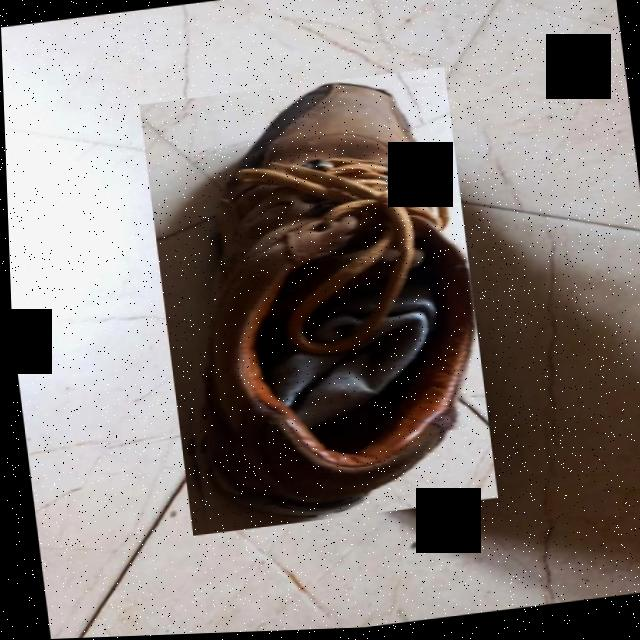shoe: (137, 69, 495, 538)
